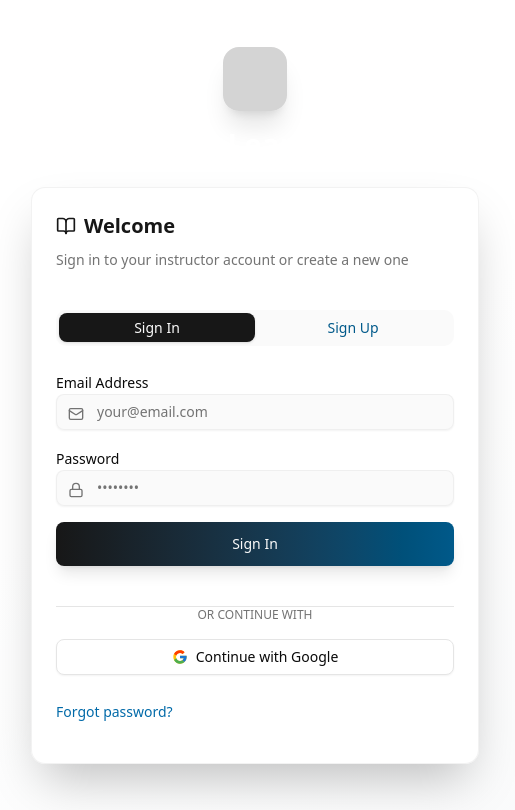
Scenario: SignupLogin Component › Password Reset › shows password reset form when forgot password is clicked
Click the button "Forgot password?". click: [114, 712]
box: [56,702,173,722]
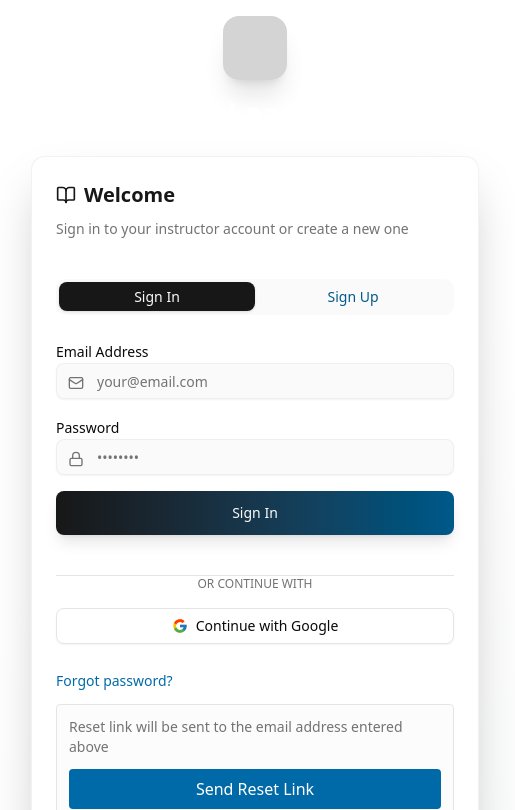
Check: the text "Reset link will be sent to the email address entered above" is shown, box [69,717,441,757]
Check: the button "Send Reset Link" is shown, box [69,769,441,809]
